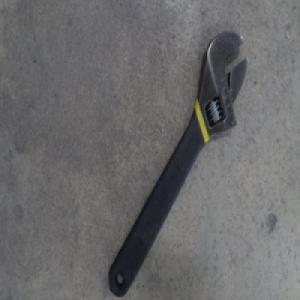AdjustableWrench: (108, 29, 247, 293)
